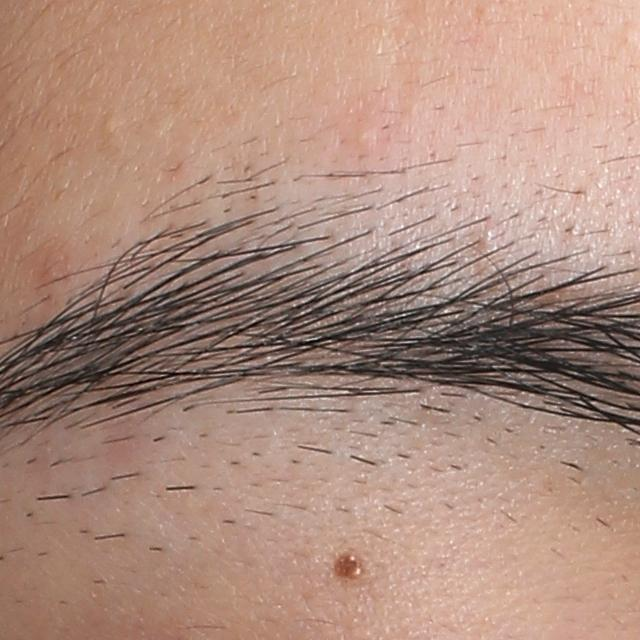comedo: (99, 113, 120, 141)
